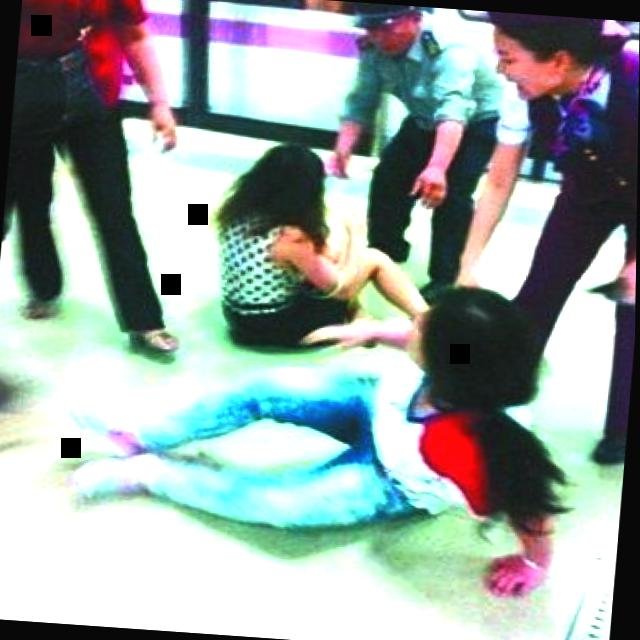Fall-Detected: (41, 263, 582, 576)
